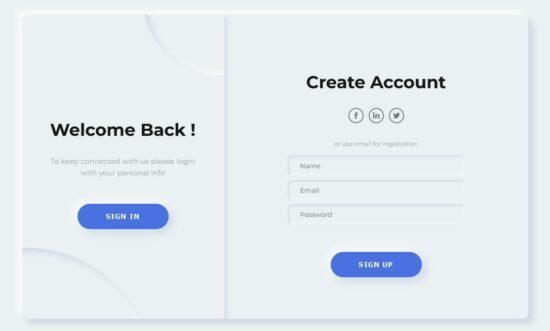button: (331, 252, 424, 279), (79, 204, 170, 231)
icon: (348, 108, 366, 125), (368, 108, 386, 125), (389, 108, 406, 125)
input: (289, 180, 465, 203), (289, 156, 465, 175), (290, 208, 466, 226)
